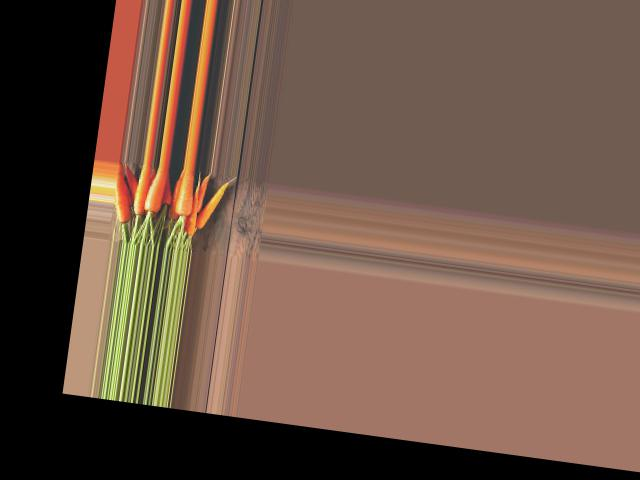carrot: (212, 142, 267, 243)
